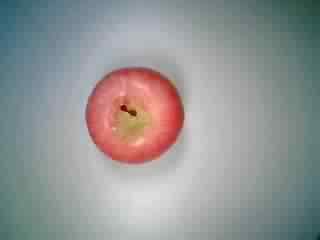apple: (84, 65, 189, 167)
